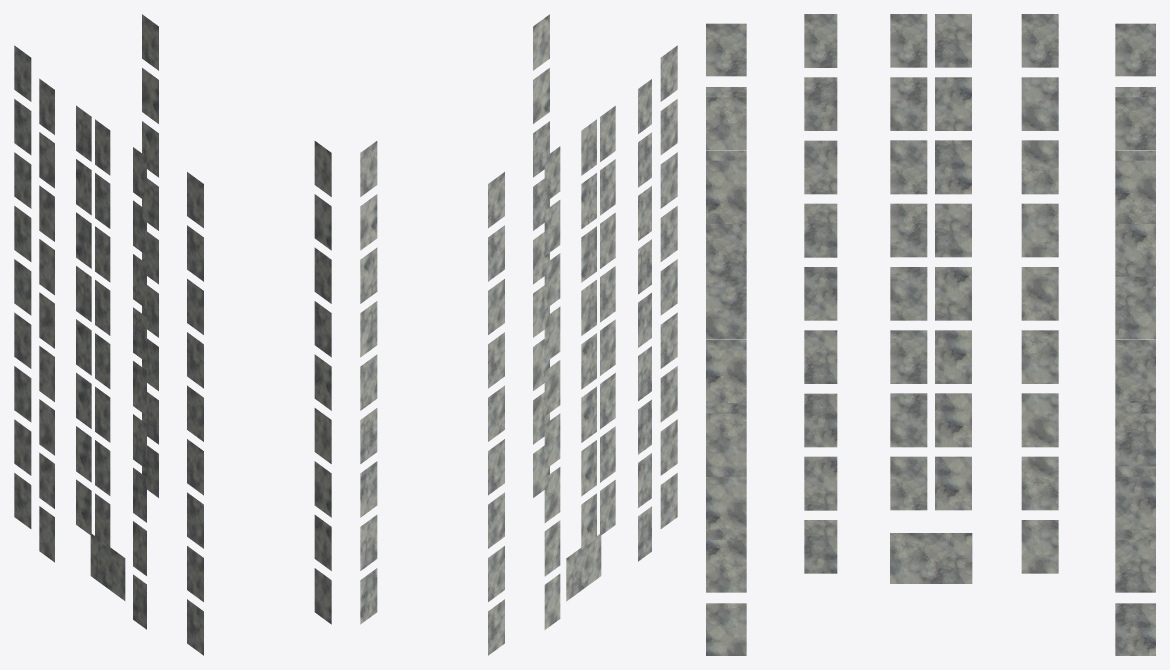
The model's file is Ventanas.obj.
3 views of the same model, side by side, from view 1: azimuth 30°, elevation 25°; view 2: azimuth 150°, elevation 25°; view 3: azimuth 270°, elevation 25° (orthographic). The views are drawn at different scales.
Visible parts, largest first — view 1: building_001.001_building_001_mesh.002; view 2: building_001.001_building_001_mesh.002; view 3: building_001.001_building_001_mesh.002.
Boxes of the visible parts, <box> form: building_001.001_building_001_mesh.002: <box>14,14,331,655</box>; building_001.001_building_001_mesh.002: <box>360,14,677,655</box>; building_001.001_building_001_mesh.002: <box>706,14,1155,655</box>.
Size of the model in its own units: 9.19 by 29.03 by 21.07.
1 material, 1 textured.
